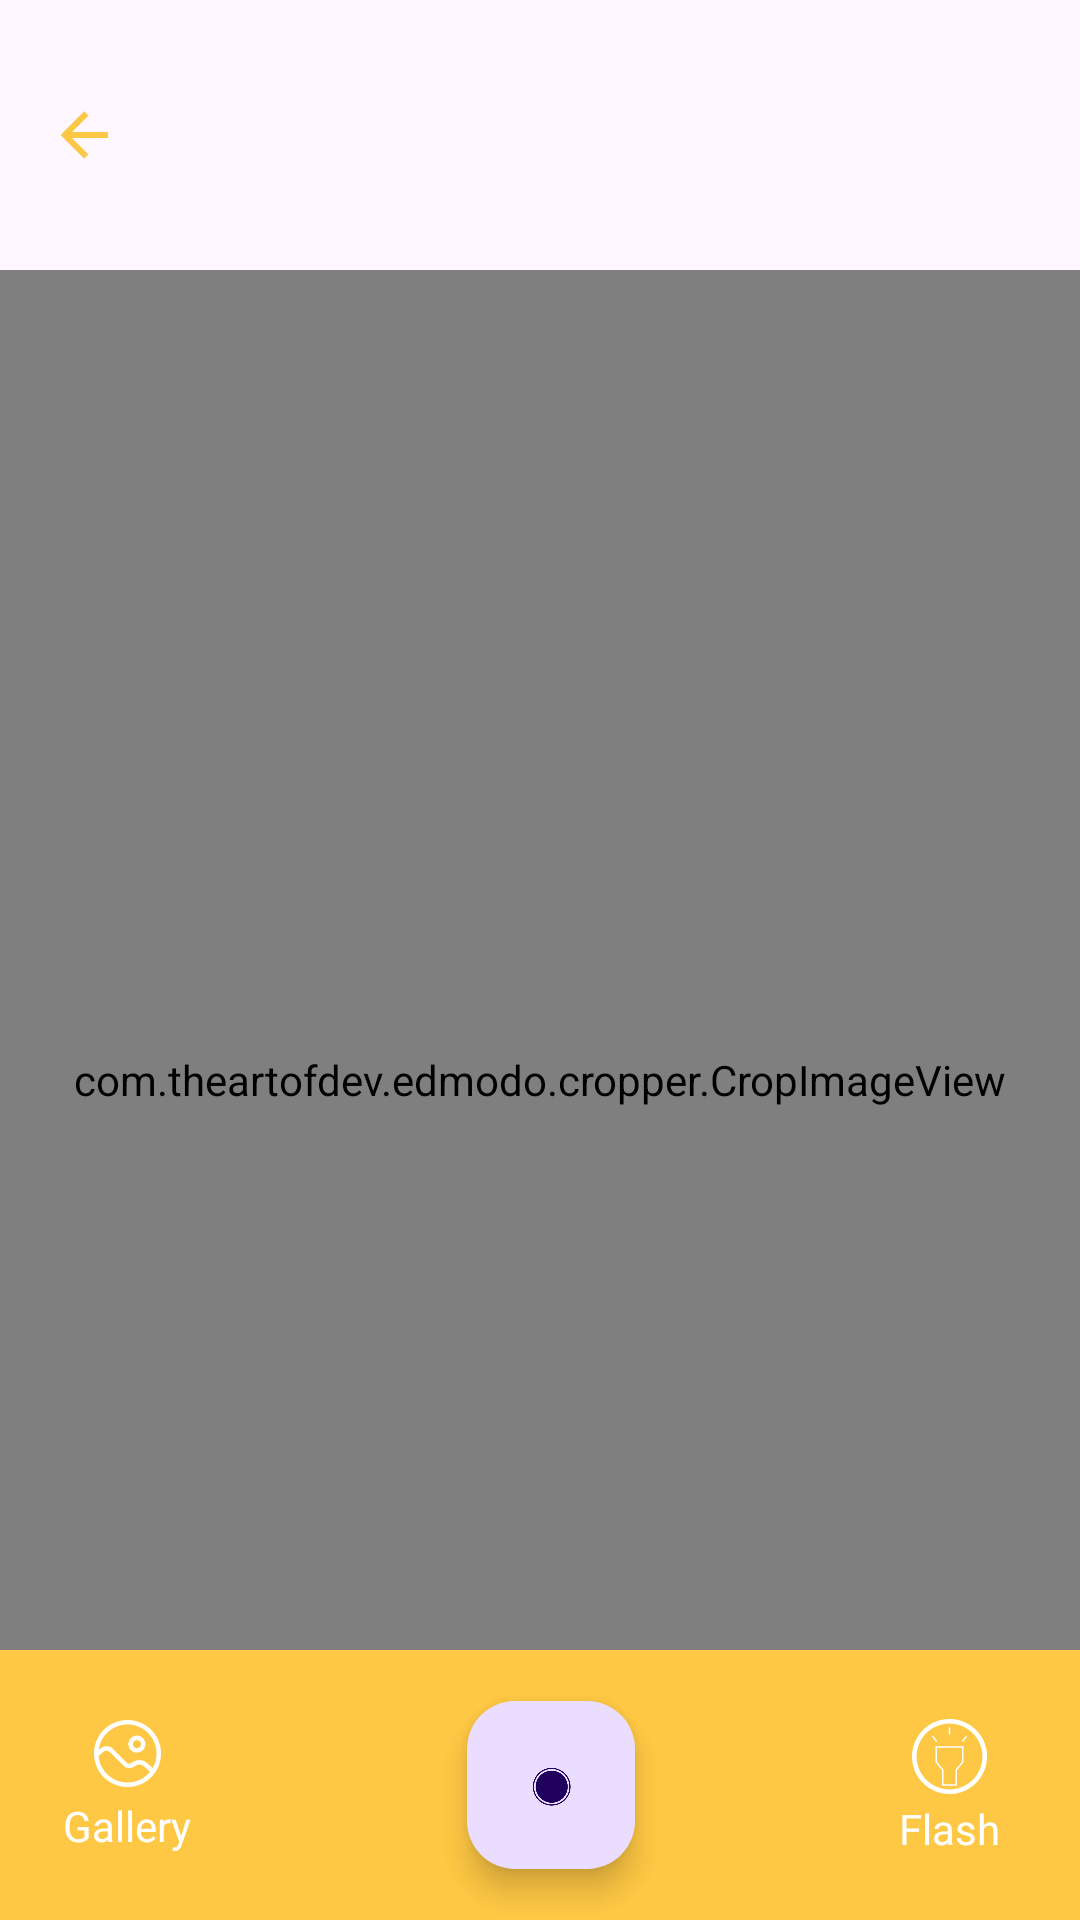

Screen size 1080px×1920px. Icon name, then its box in pixels as (x1, y1, x2, y2):
back: (61, 111, 108, 159)
